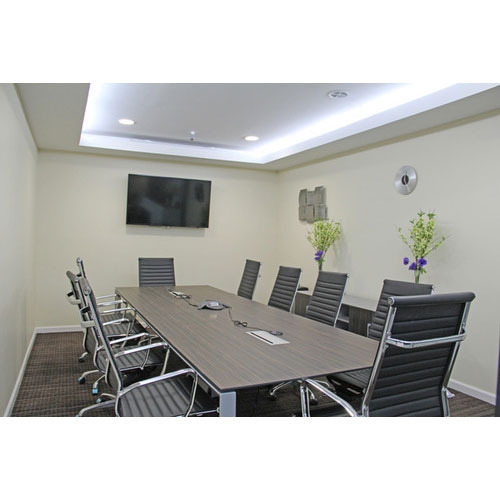conference_table: (114, 284, 380, 417)
